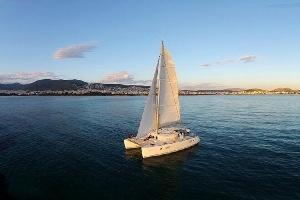fanchuan: (121, 41, 203, 157)
